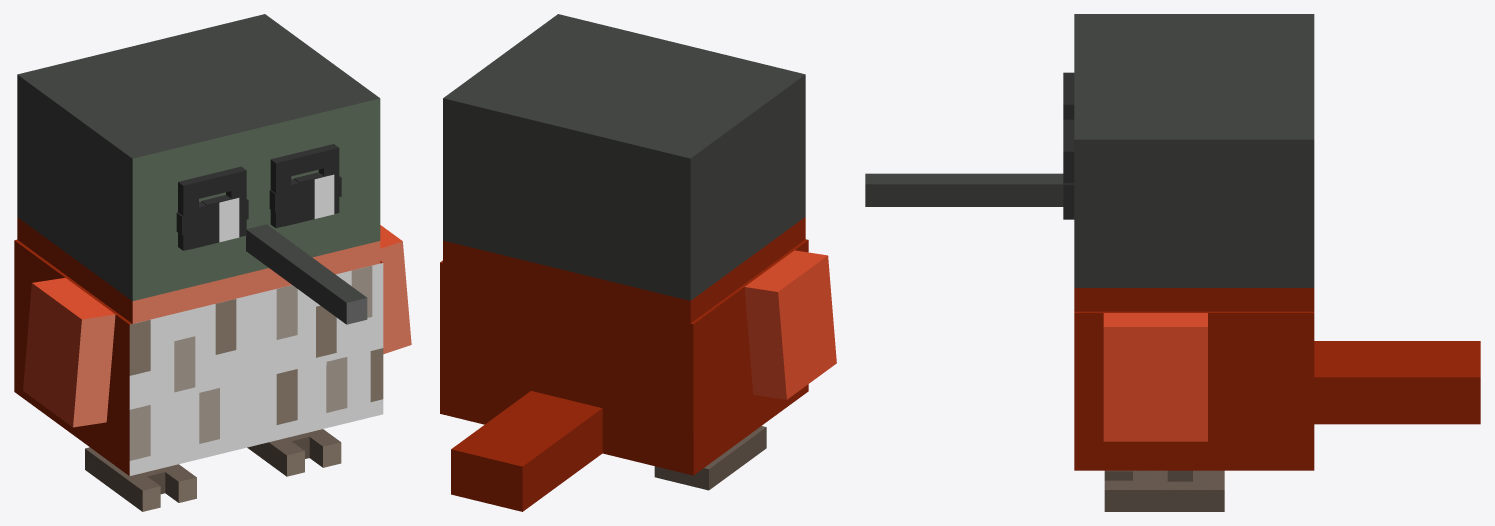
3 renders of one model, left to right at view 1: azimuth 30°, elevation 25°; view 2: azimuth 150°, elevation 25°; view 3: azimuth 270°, elevation 25°, orthographic. The views are drawn at different scales.
Parts seen in each view (by area): view 1: Ch_16_Head, Ch_16, Ch_16_Wing_L, Ch_16_Eye_01, Ch_16_Leg_L, Ch_16_Wing_R, Ch_16_Leg_R, Ch_16_Eye_03_R, Ch_16_Eye_03_L, Ch_16_Eye_02; view 2: Ch_16_Head, Ch_16, Ch_16_Wing_L, Ch_16_Leg_L; view 3: Ch_16_Head, Ch_16, Ch_16_Wing_R, Ch_16_Leg_R, Ch_16_Eye_03_R.
Boxes of the visible parts, x1,y1,x2,y2 form: Ch_16_Head: (17, 14, 380, 324); Ch_16: (14, 239, 383, 476); Ch_16_Wing_L: (23, 277, 115, 427); Ch_16_Eye_01: (189, 174, 334, 249); Ch_16_Leg_L: (85, 447, 196, 511); Ch_16_Wing_R: (380, 225, 411, 354); Ch_16_Leg_R: (247, 429, 341, 476); Ch_16_Eye_03_R: (270, 144, 339, 228); Ch_16_Eye_03_L: (178, 166, 246, 250); Ch_16_Eye_02: (176, 176, 341, 235); Ch_16_Head: (443, 14, 805, 323); Ch_16: (440, 239, 808, 511); Ch_16_Wing_L: (744, 250, 836, 399); Ch_16_Leg_L: (654, 426, 766, 490); Ch_16_Head: (865, 14, 1314, 311); Ch_16: (1074, 311, 1480, 470); Ch_16_Wing_R: (1103, 313, 1207, 441); Ch_16_Leg_R: (1104, 470, 1224, 511); Ch_16_Eye_03_R: (1063, 119, 1074, 219).
Size of the model in its own units: 8.93 by 9.32 by 13.52.
